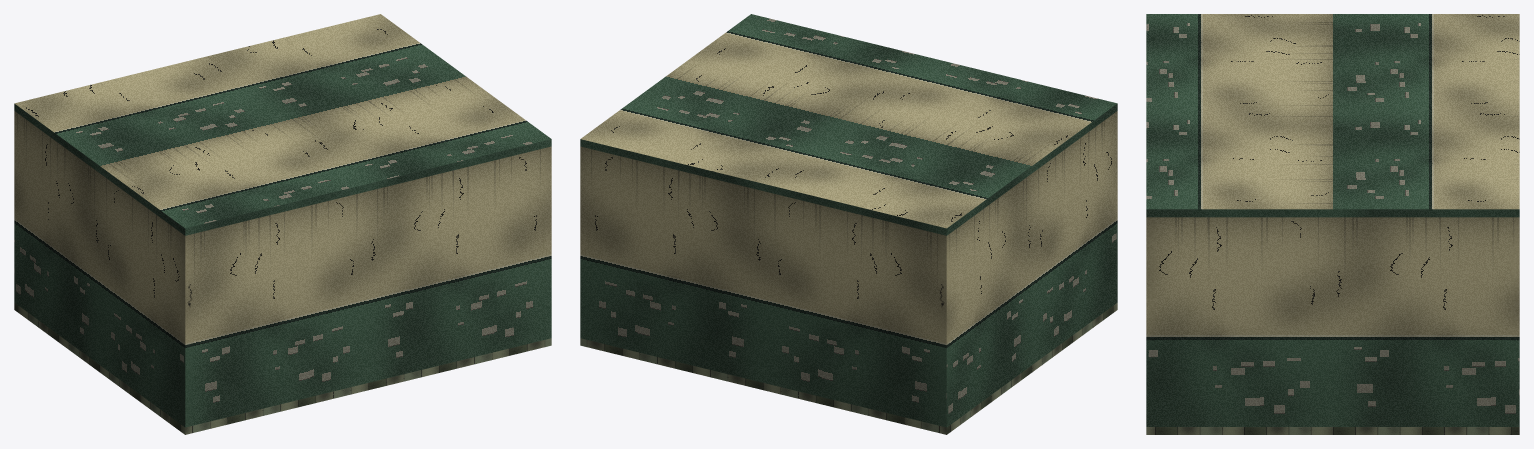
Rendered from ward_probe_v2.glb.
3 renders of one model, left to right at view 1: azimuth 30°, elevation 25°; view 2: azimuth 150°, elevation 25°; view 3: azimuth 270°, elevation 25°, orthographic. The views are drawn at different scales.
Parts seen in each view (by area): view 1: wall_front, ceiling, wall_left, floor, wall_right; view 2: wall_back, ceiling, wall_left, floor, wall_front; view 3: wall_right, ceiling, floor, wall_back, wall_front.
Part boxes in pixels (<box>): wall_front: <box>181,146,551,427</box>; ceiling: <box>14,14,551,235</box>; wall_left: <box>14,111,192,426</box>; floor: <box>14,303,551,434</box>; wall_right: <box>544,147,550,339</box>; wall_back: <box>580,146,950,427</box>; ceiling: <box>580,14,1117,235</box>; wall_left: <box>939,111,1117,427</box>; floor: <box>580,303,1117,434</box>; wall_front: <box>1113,111,1117,304</box>; wall_right: <box>1146,217,1519,426</box>; ceiling: <box>1146,14,1519,217</box>; floor: <box>1146,427,1519,434</box>; wall_back: <box>1510,217,1519,423</box>; wall_front: <box>1146,217,1155,414</box>.
Bounding box in the file's own units: 5.2 × 2.8 × 4.2.
28 materials, 27 textured.
